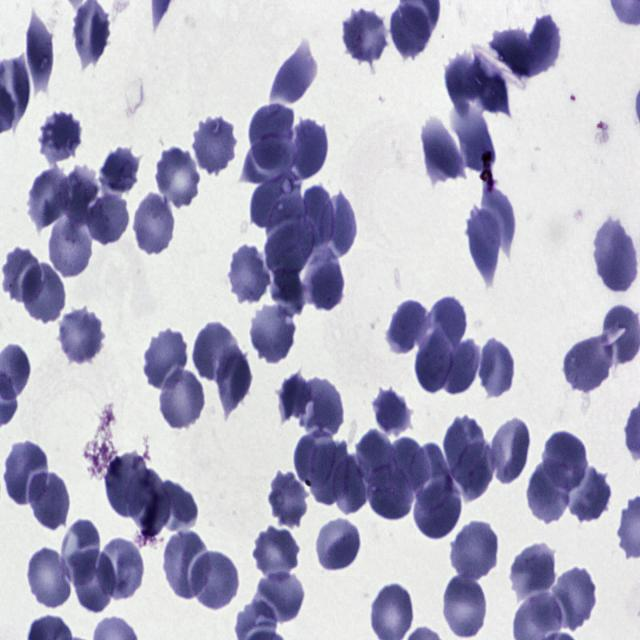red blood cell: (592, 218, 639, 295), (156, 368, 208, 433), (466, 204, 504, 291), (419, 117, 465, 188), (450, 519, 500, 584), (166, 532, 212, 602), (3, 439, 51, 506), (46, 212, 93, 280), (453, 106, 498, 177), (248, 170, 303, 228), (562, 335, 614, 396), (440, 574, 487, 640), (102, 453, 148, 520), (188, 552, 240, 611), (413, 479, 463, 540), (248, 303, 297, 365), (126, 467, 170, 536), (552, 567, 598, 632), (444, 412, 485, 484), (412, 441, 453, 513), (56, 306, 106, 365), (528, 460, 572, 527), (488, 414, 532, 481), (249, 102, 296, 164), (144, 327, 190, 390), (226, 243, 272, 306), (130, 196, 176, 259), (542, 429, 588, 492), (156, 145, 200, 210), (193, 319, 237, 384), (22, 262, 68, 324), (72, 0, 112, 71), (26, 547, 71, 610), (342, 5, 390, 64), (509, 542, 556, 602), (28, 165, 72, 229), (73, 549, 116, 614), (192, 115, 238, 175), (256, 571, 308, 624), (324, 190, 361, 264), (296, 380, 344, 437), (352, 432, 400, 489), (268, 220, 314, 279), (60, 520, 101, 586), (99, 540, 144, 600), (483, 28, 544, 72), (414, 328, 454, 395), (475, 336, 518, 398), (598, 302, 640, 365), (253, 525, 301, 580), (266, 190, 306, 256), (29, 471, 71, 533), (216, 344, 252, 416), (304, 248, 344, 312), (388, 437, 429, 499), (453, 442, 496, 501), (300, 186, 334, 260), (388, 6, 431, 64), (566, 468, 613, 521), (386, 300, 432, 354), (310, 444, 351, 504), (243, 136, 295, 183), (439, 337, 479, 398), (25, 11, 54, 95), (291, 116, 329, 178), (268, 471, 310, 527), (294, 432, 336, 488), (482, 183, 514, 255), (525, 12, 562, 74), (428, 295, 468, 351), (370, 467, 412, 520), (316, 520, 360, 570), (273, 51, 315, 103), (3, 244, 40, 302), (40, 111, 82, 162), (158, 479, 198, 532), (468, 65, 510, 115), (372, 387, 413, 438), (331, 456, 367, 513), (66, 163, 99, 225), (100, 147, 142, 195), (276, 372, 315, 423), (86, 195, 128, 242), (448, 58, 486, 107), (270, 266, 307, 312)
